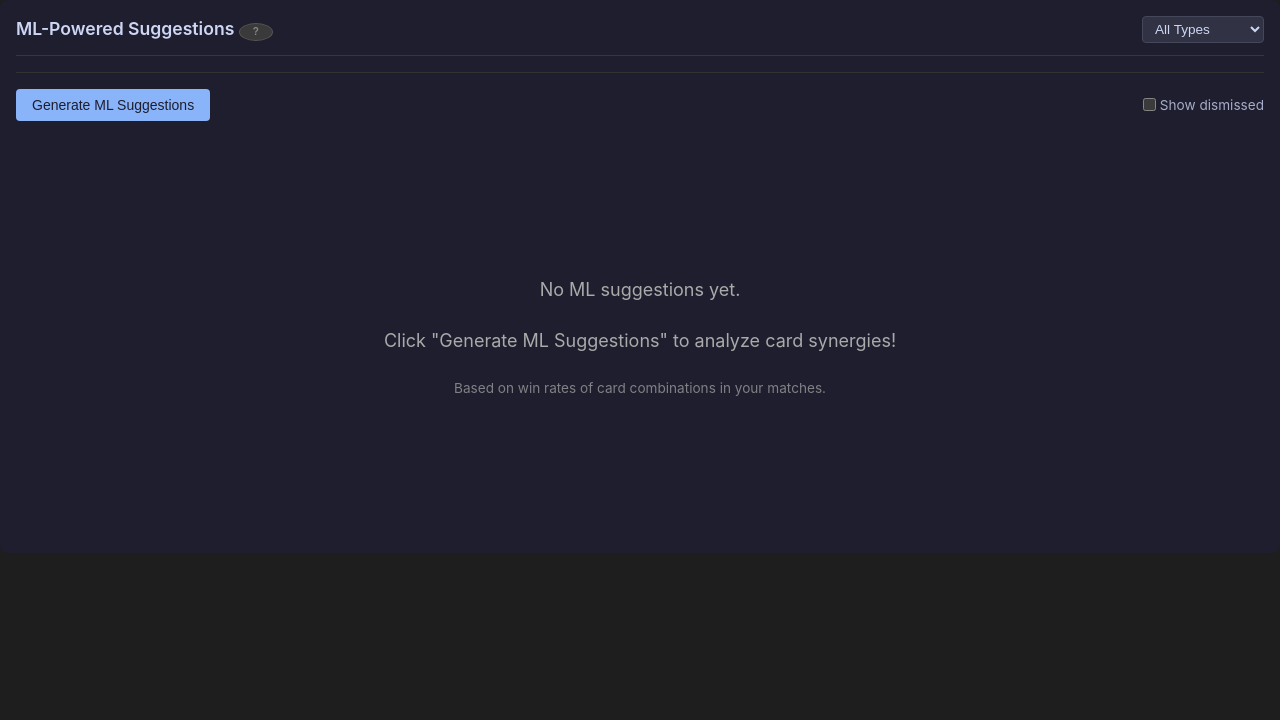
Test case: MLSuggestionsPanel › Error Handling › should allow dismissing error message
This screenshot has width=1280, height=720.
Click the button "Generate ML Suggestions": (113, 105) [16,89,210,121]
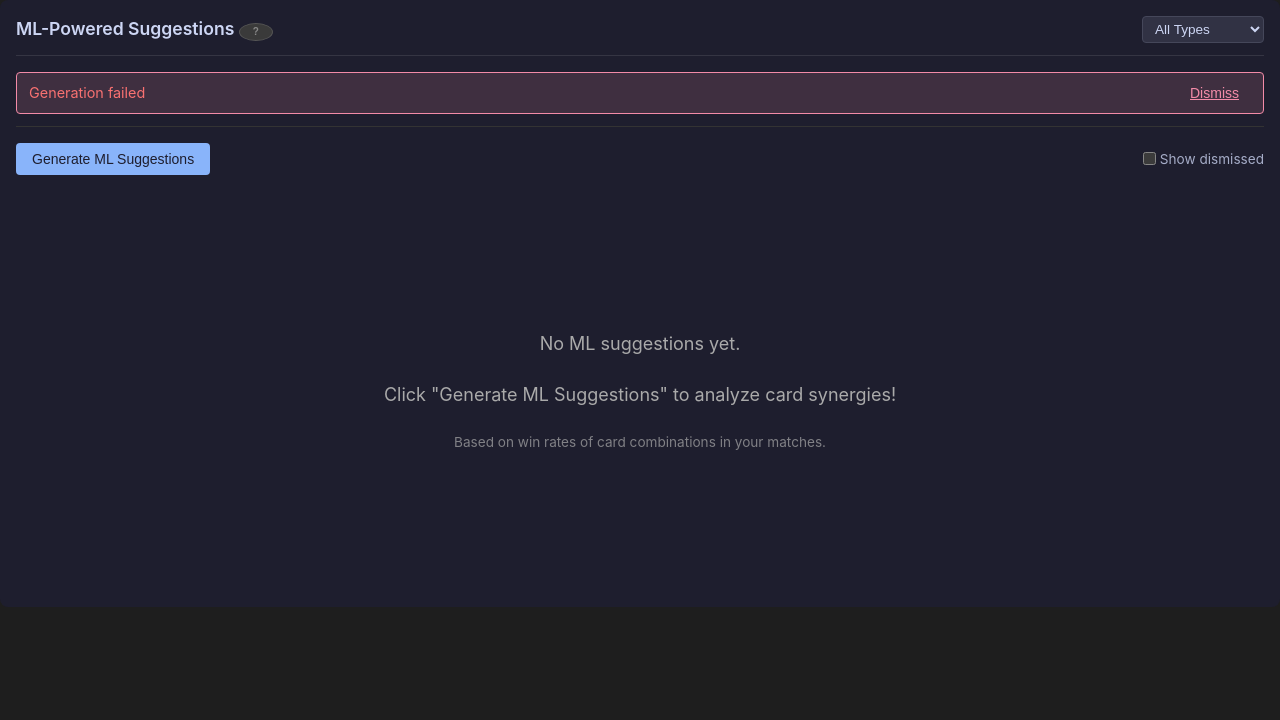
Expected: the text "Generation failed" is shown, [29,82,145,104]
# Click dismiss on error banner
Click the button "Dismiss": (1214, 93) [1178,81,1251,105]
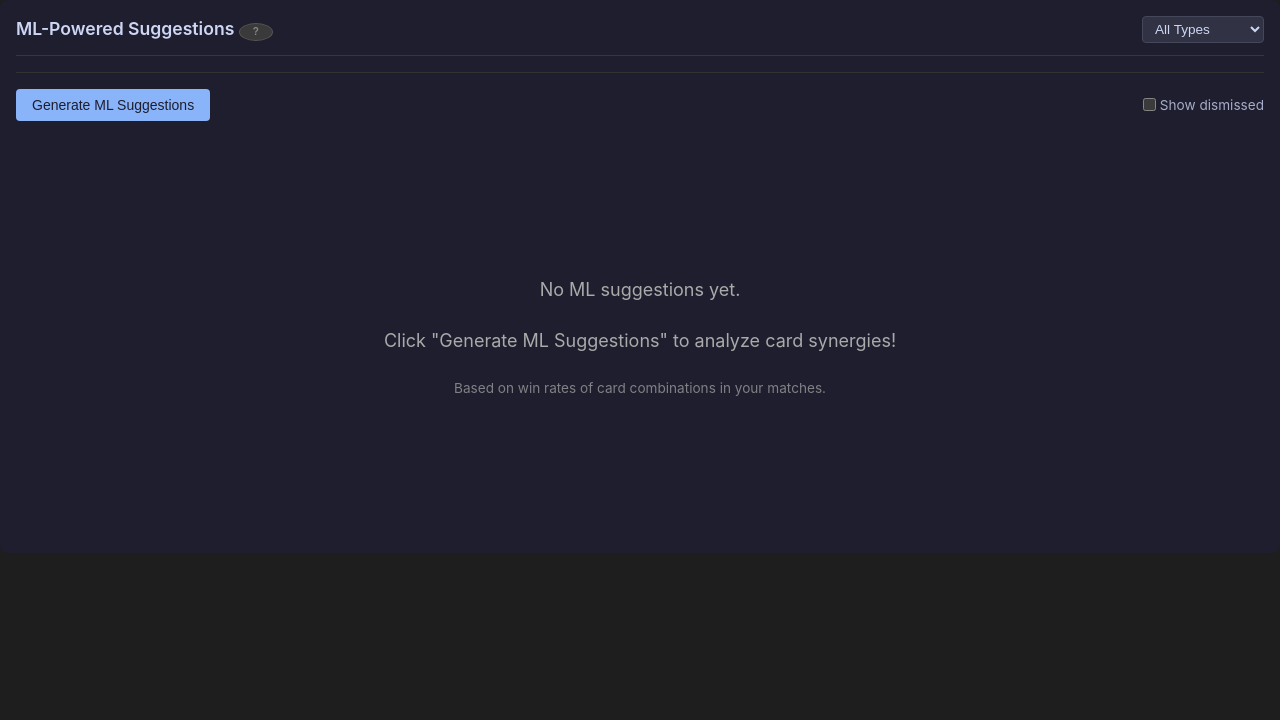
Expected: the text "Generation failed" is gone
